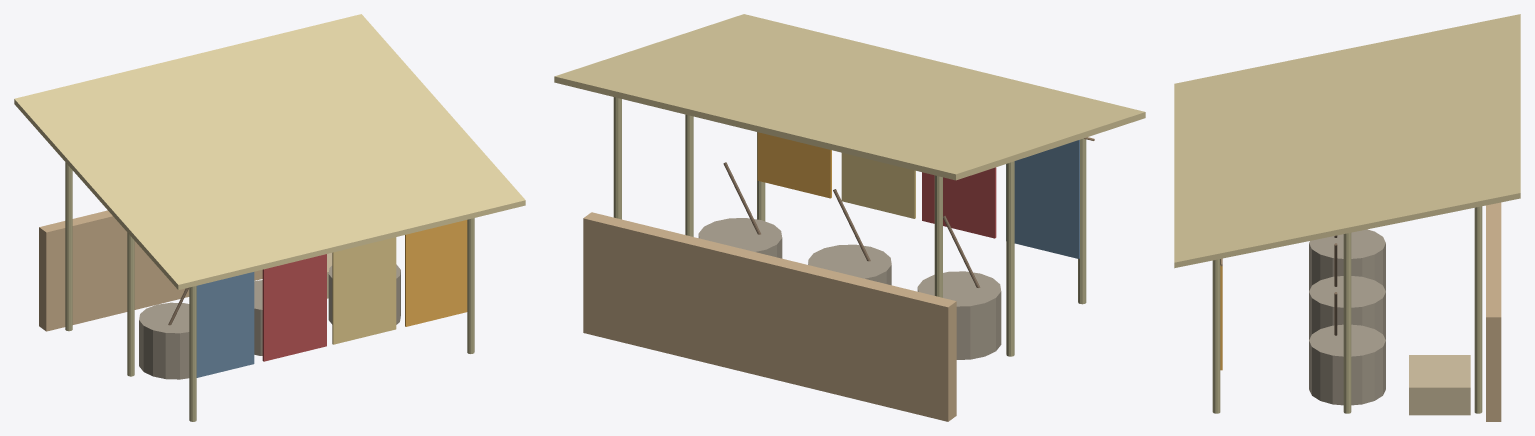
File: Workshop_India.fbx
3 views of the same model, side by side, from view 1: azimuth 30°, elevation 25°; view 2: azimuth 150°, elevation 25°; view 3: azimuth 270°, elevation 25° (orthographic). The views are drawn at different scales.
Parts seen in each view (by area): view 1: Workshop_India_Mesh; view 2: Workshop_India_Mesh; view 3: Workshop_India_Mesh.
Boxes of the visible parts, x1,y1,x2,y2 form: Workshop_India_Mesh: (14,14,525,421); Workshop_India_Mesh: (554,14,1145,421); Workshop_India_Mesh: (1174,14,1520,421).
Size of the model in its own units: 5.5 by 3.4 by 4.5.
